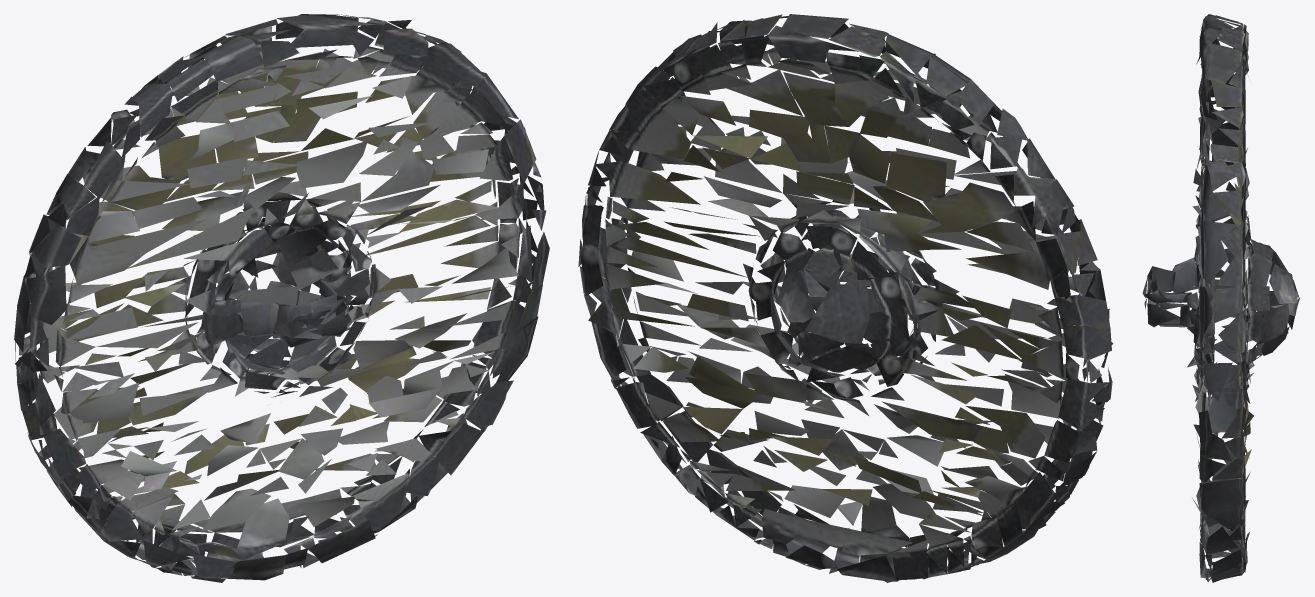
The model's file is shield.glb.
3 views of the same model, side by side, from view 1: azimuth 30°, elevation 25°; view 2: azimuth 150°, elevation 25°; view 3: azimuth 270°, elevation 25° (orthographic). The views are drawn at different scales.
Parts seen in each view (by area): view 1: Mesh_0; view 2: Mesh_0; view 3: Mesh_0.
Boxes of the visible parts, <box> form: Mesh_0: <box>14,14,549,582</box>; Mesh_0: <box>578,14,1113,582</box>; Mesh_0: <box>1142,14,1300,582</box>.
Bounding box in the file's own units: 0.6227 × 0.6213 × 0.1722.
1 material, 1 textured.
